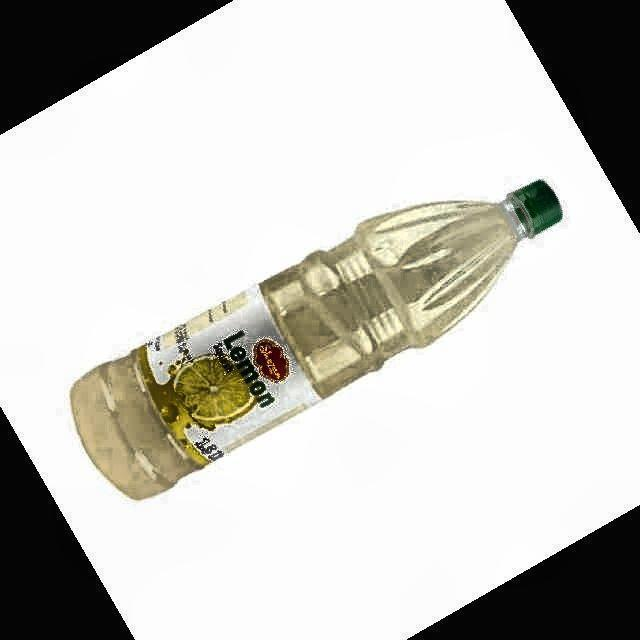plastic: (70, 180, 562, 499)
